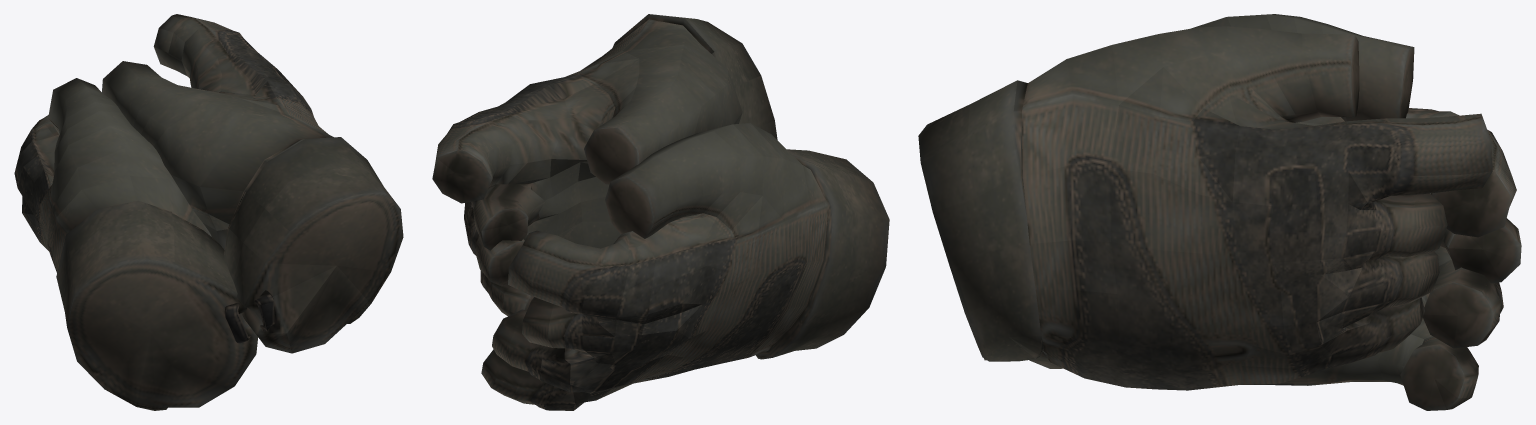
Rendered from Glove.glb.
The picture shows the model from 3 angles, left to right: view 1: azimuth 30°, elevation 25°; view 2: azimuth 150°, elevation 25°; view 3: azimuth 270°, elevation 25°; orthographic projection. The views are drawn at different scales.
Parts seen in each view (by area): view 1: Glove; view 2: Glove; view 3: Glove.
Part boxes in pixels (x1,y1,x2,y2): Glove: (14, 14, 403, 410); Glove: (432, 14, 889, 410); Glove: (918, 14, 1521, 410).
Bounding box in the file's own units: 0.4319 × 0.3586 × 0.5276.
Materials: 1 (1 with a texture image).
